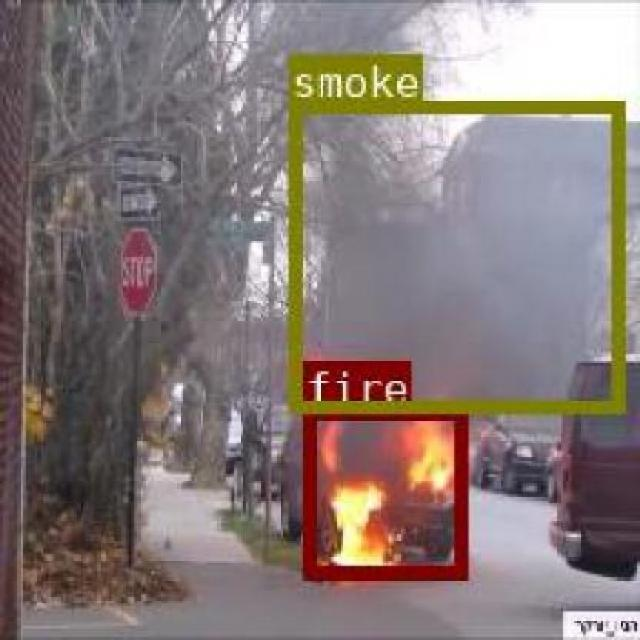Fire: (304, 403, 464, 574)
Smoke: (288, 98, 621, 411)
